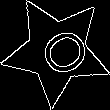O_SW: (24, 19, 89, 83)
